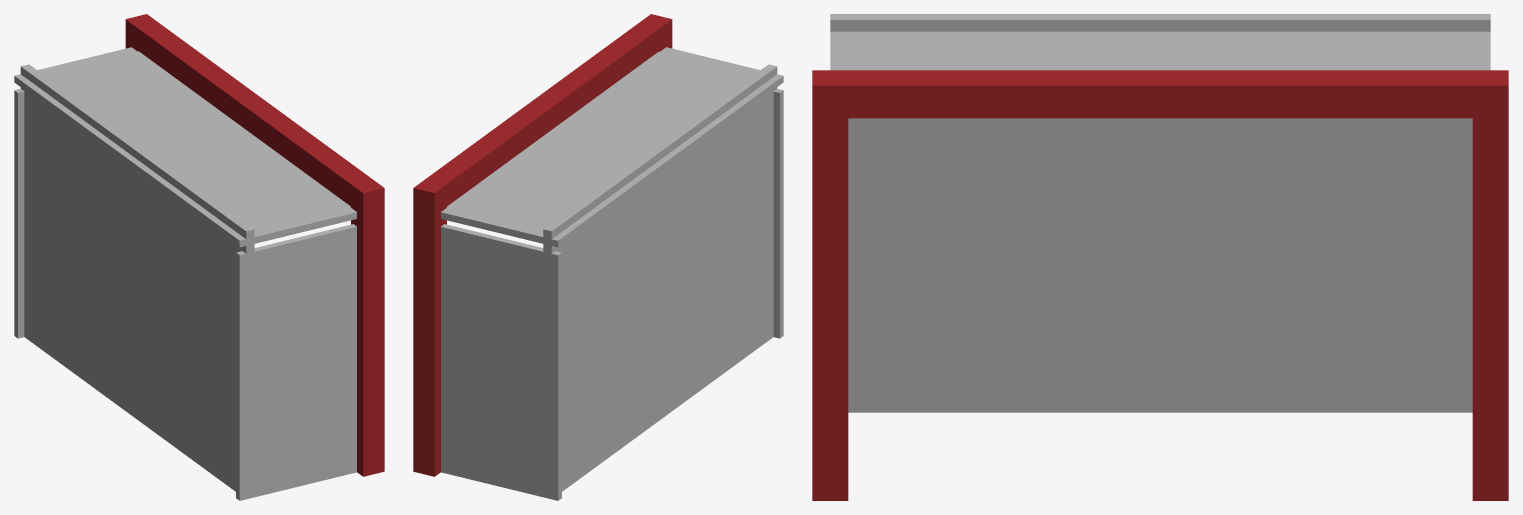
The model's file is goal.gltf.
3 views of the same model, side by side, from view 1: azimuth 30°, elevation 25°; view 2: azimuth 150°, elevation 25°; view 3: azimuth 270°, elevation 25° (orthographic). The views are drawn at different scales.
Bounding box in the file's own units: 0.65 × 1.27 × 1.93.
